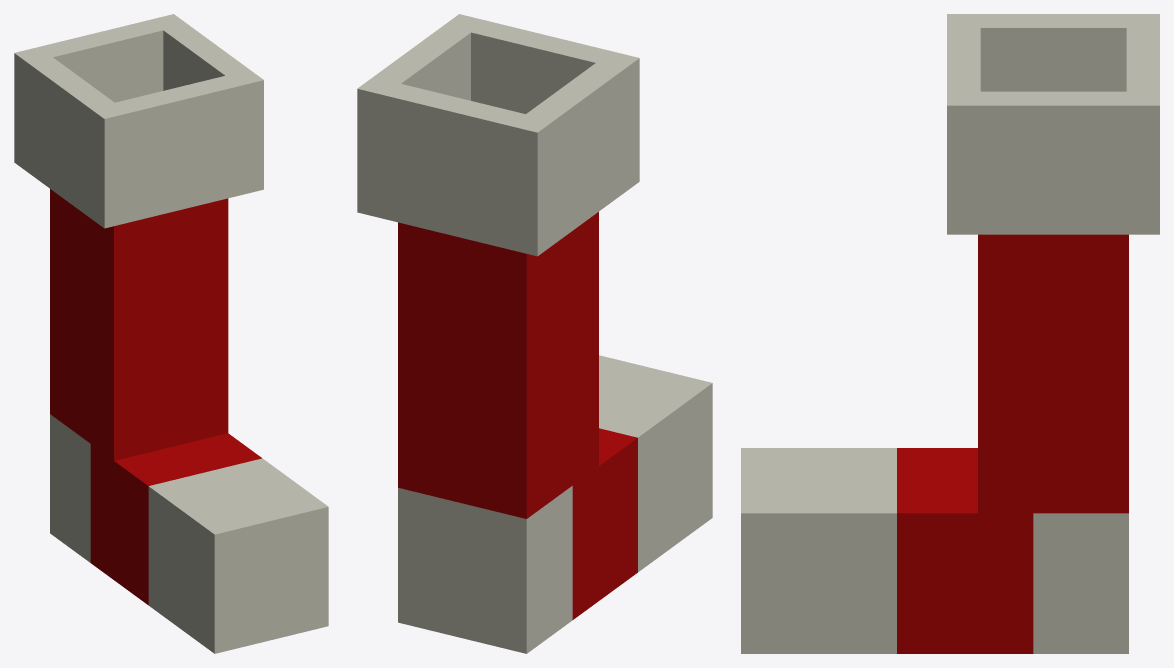
The model's file is 010 Christmas_Socks.fbx.
3 views of the same model, side by side, from view 1: azimuth 30°, elevation 25°; view 2: azimuth 150°, elevation 25°; view 3: azimuth 270°, elevation 25° (orthographic). The views are drawn at different scales.
Parts seen in each view (by area): view 1: Lowpoly_Christmas_Pack_010:pCube1; view 2: Lowpoly_Christmas_Pack_010:pCube1; view 3: Lowpoly_Christmas_Pack_010:pCube1.
Part boxes in pixels (x1,y1,x2,y2): Lowpoly_Christmas_Pack_010:pCube1: (14,14,328,653); Lowpoly_Christmas_Pack_010:pCube1: (357,14,712,653); Lowpoly_Christmas_Pack_010:pCube1: (741,14,1159,653).
Bounding box in the file's own units: 0.7 × 2 × 1.35.
